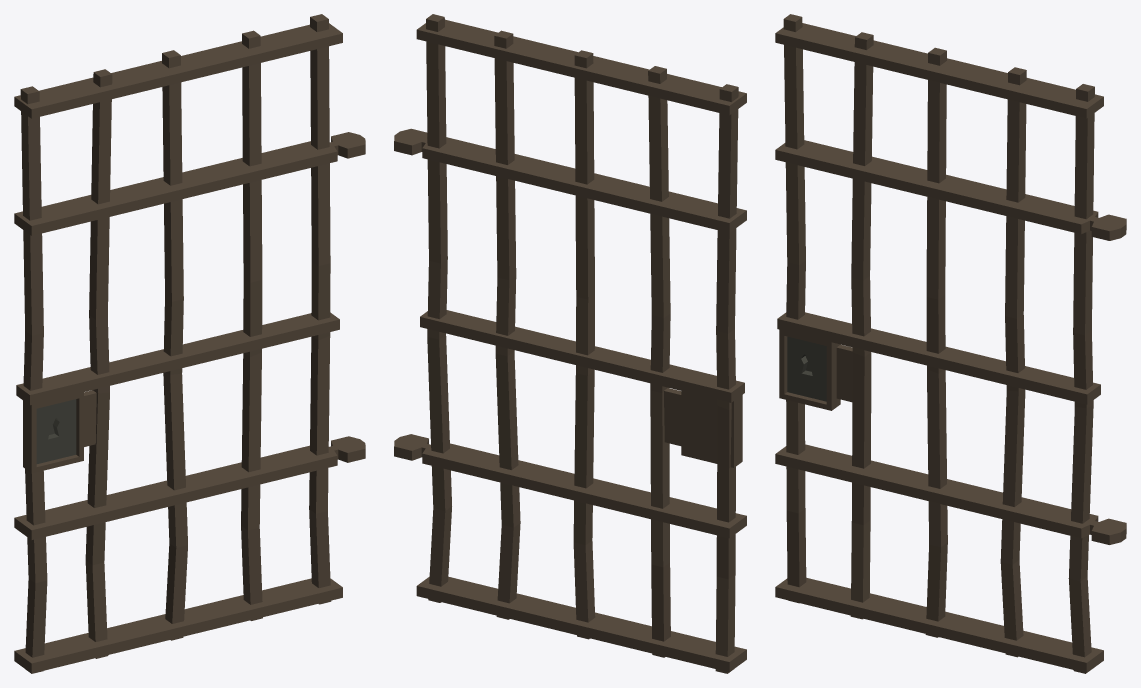
The model's file is jail_door_R.gltf.
3 views of the same model, side by side, from view 1: azimuth 30°, elevation 25°; view 2: azimuth 150°, elevation 25°; view 3: azimuth 330°, elevation 25° (orthographic).
Parts seen in each view (by area): view 1: Jail_Door_Right; view 2: Jail_Door_Right; view 3: Jail_Door_Right.
Part boxes in pixels (left/top/right/bottom): Jail_Door_Right: left=14, top=14, right=365, bottom=673; Jail_Door_Right: left=394, top=14, right=746, bottom=673; Jail_Door_Right: left=775, top=14, right=1126, bottom=673.
Bounding box in the file's own units: 1.3 × 2.12 × 0.1142.
Materials: 1 (1 with a texture image).
